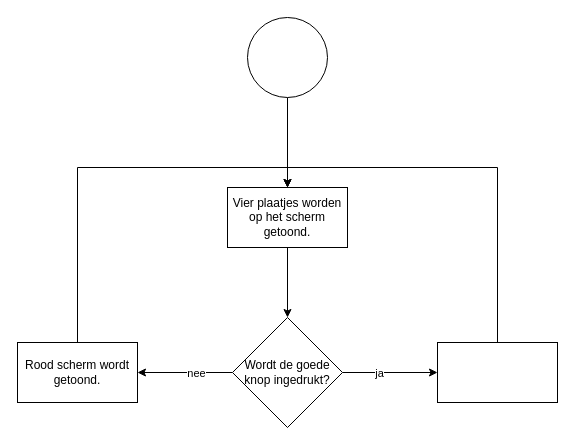
Image size: 575x445. Some labels were removed from this diagram. Here are the shapes that lost their labels. From the top down, the centre of each, then its label:
At pixel 287 57: "Start".
At pixel 497 372: "Groen scherm wordt getoond.".
